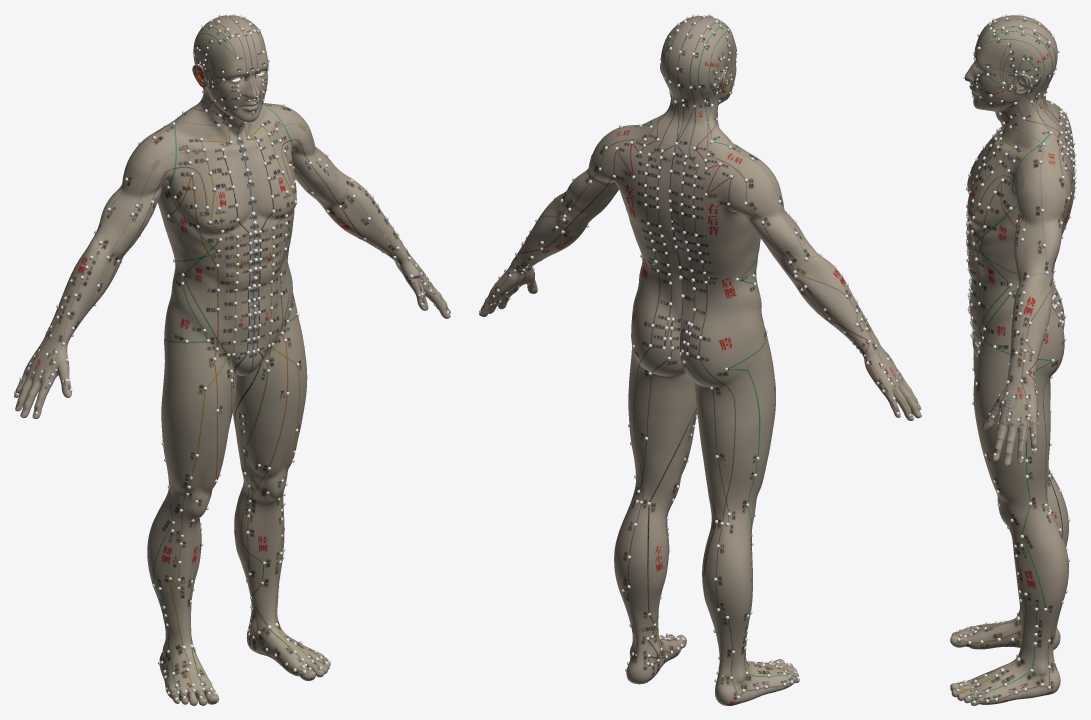
The model's file is tongren12.glb.
3 views of the same model, side by side, from view 1: azimuth 30°, elevation 25°; view 2: azimuth 150°, elevation 25°; view 3: azimuth 270°, elevation 25° (orthographic).
Parts seen in each view (by area): view 1: 经络; view 2: 经络; view 3: 经络.
Part boxes in pixels (bbox=[...]): 经络: bbox=[14, 15, 450, 705]; 经络: bbox=[479, 16, 921, 705]; 经络: bbox=[950, 15, 1074, 705].
Bounding box in the file's own units: 9.15 × 13.32 × 2.33.
33 materials, 1 textured.
